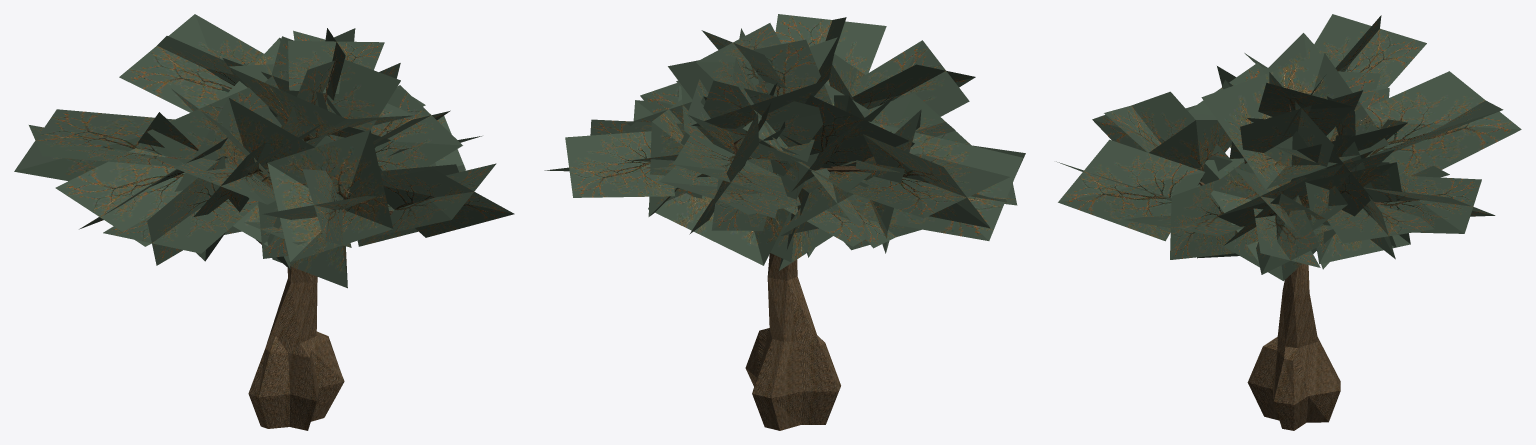
File: decd_oaktreebranches_a1_l1.fbx
3 renders of one model, left to right at view 1: azimuth 30°, elevation 25°; view 2: azimuth 150°, elevation 25°; view 3: azimuth 270°, elevation 25°, orthographic. The views are drawn at different scales.
Parts seen in each view (by area): view 1: mesh_node; view 2: mesh_node; view 3: mesh_node.
Part boxes in pixels (left/top/right/bottom): mesh_node: left=14, top=14, right=514, bottom=430; mesh_node: left=544, top=14, right=1025, bottom=430; mesh_node: left=1056, top=14, right=1521, bottom=430.
Bounding box in the file's own units: 41.46 × 35.4 × 42.6.
